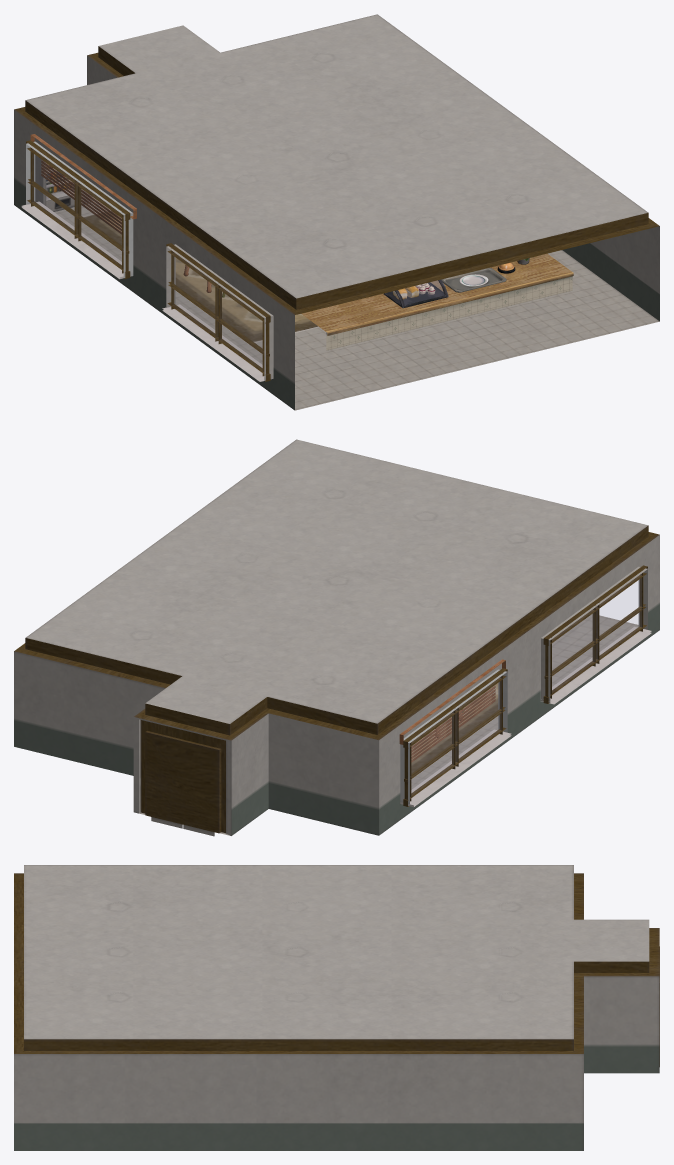
Rendered from Dormitory.fbx.
3 renders of one model, top to bottom at view 1: azimuth 30°, elevation 25°; view 2: azimuth 150°, elevation 25°; view 3: azimuth 270°, elevation 25°, orthographic.
Parts seen in each view (by area): view 1: Main.002, Main, Bar, Window, Main.001, Rag, Blinds, Vending_machine, Bread_bin, Tray; view 2: Main.002, Main, Window, Blinds, Rag; view 3: Main.002, Main, Main.001.
Part boxes in pixels (x1,y1,x2,y2): Main.002: (25,14,647,298); Main: (14,46,659,410); Bar: (301,253,573,350); Window: (32,149,261,369); Main.001: (295,212,659,314); Rag: (81,210,318,344); Blinds: (30,134,136,234); Vending_machine: (35,155,92,211); Bread_bin: (383,279,448,308); Tray: (441,267,506,292); Main.002: (25,439,647,723); Main: (14,525,659,836); Window: (412,574,641,794); Blinds: (399,659,505,762); Rag: (411,683,498,779); Main.002: (24,865,649,1039); Main: (14,873,659,1150); Main.001: (14,873,23,1053).
Size of the model in its own units: 1020 by 289 by 1486.
